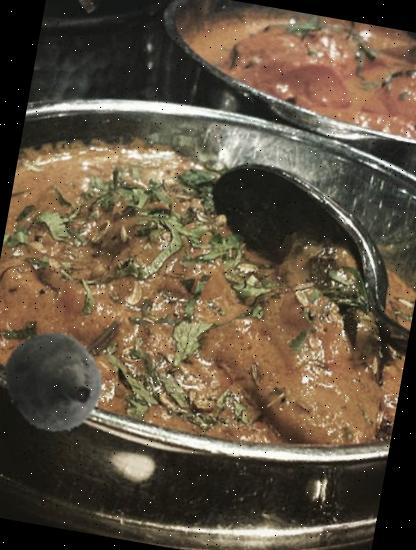Beetroot: (0, 319, 121, 448)
